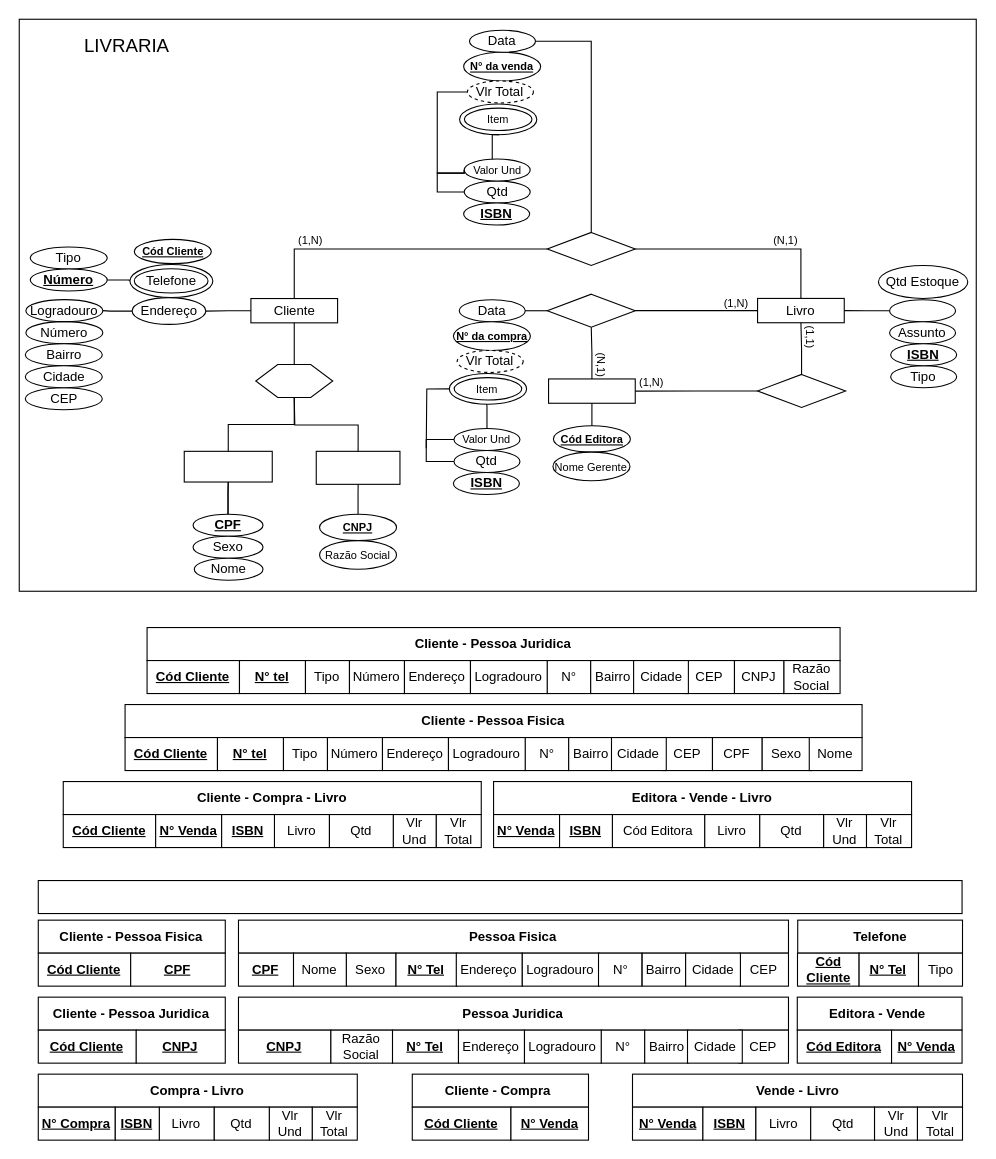
The diagram is 996 pixels wide and 1159 high, and some of its shapes have lost their labels. Here are the shapes that lost their labels. From the top down, the box of each, then its label:
(546, 231, 635, 265): Venda
(546, 293, 635, 327): Compra
(888, 299, 956, 322): Autor
(255, 363, 333, 398): D / T
(547, 378, 635, 403): Editora
(756, 373, 846, 407): Tem
(183, 450, 272, 482): Cliente_Pessoa _Física
(315, 450, 400, 484): Cliente_Pessoa Juridica
(37, 879, 962, 914): Normalizações
